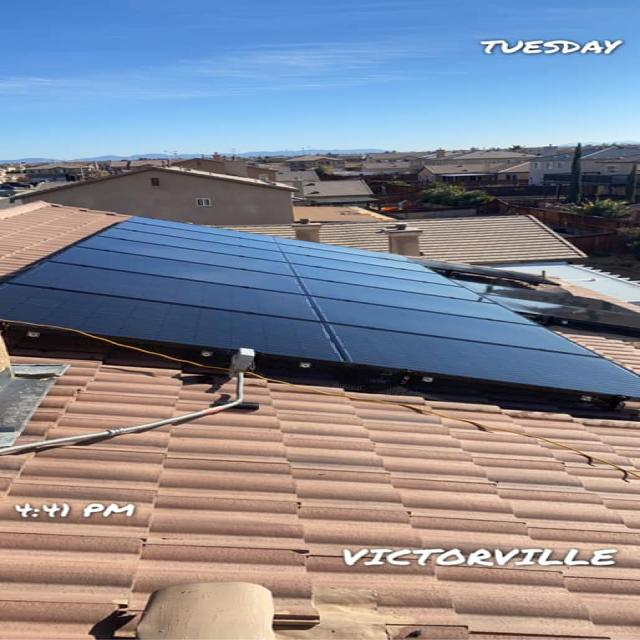clean-solar-panel: (0, 218, 633, 394)
